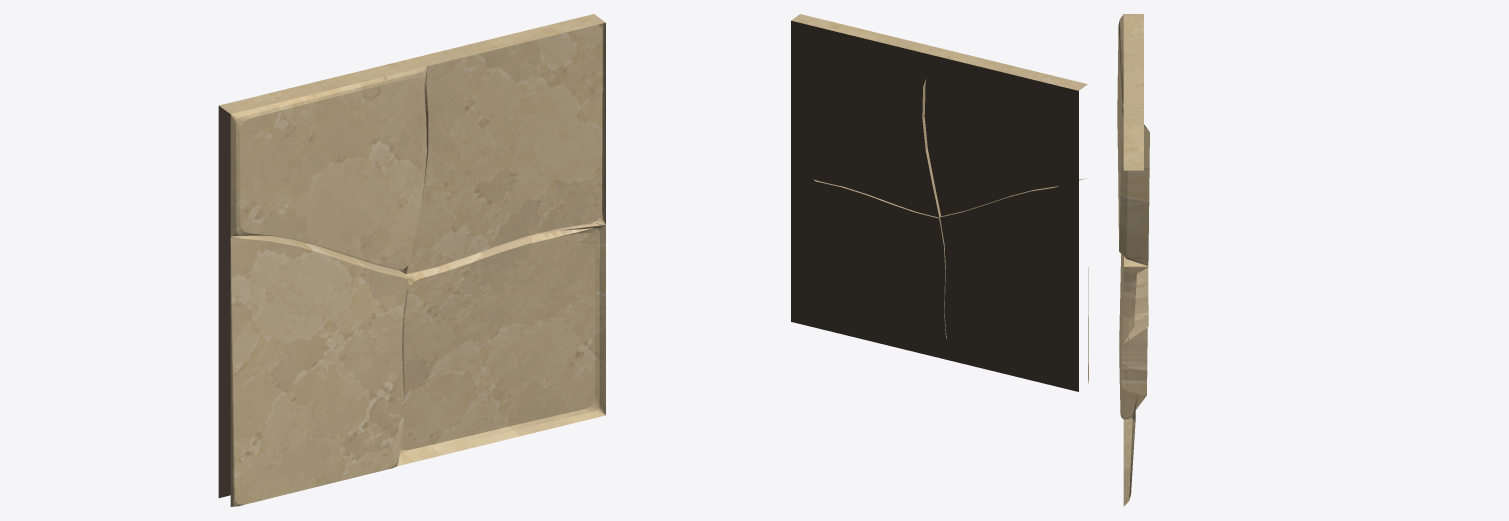
The model's file is ground_square_edge_04.glb.
3 views of the same model, side by side, from view 1: azimuth 30°, elevation 25°; view 2: azimuth 150°, elevation 25°; view 3: azimuth 270°, elevation 25° (orthographic). The views are drawn at different scales.
Visible parts, largest first — view 1: GroundSquareEdge04_Body; view 2: GroundSquareEdge04_Body; view 3: GroundSquareEdge04_Body.
Part boxes in pixels (<box>): GroundSquareEdge04_Body: <box>218,14,605,506</box>; GroundSquareEdge04_Body: <box>791,14,1088,391</box>; GroundSquareEdge04_Body: <box>1117,14,1149,506</box>.
Size of the model in its own units: 1 by 1 by 1.02.
Materials: 6 (5 with a texture image).
